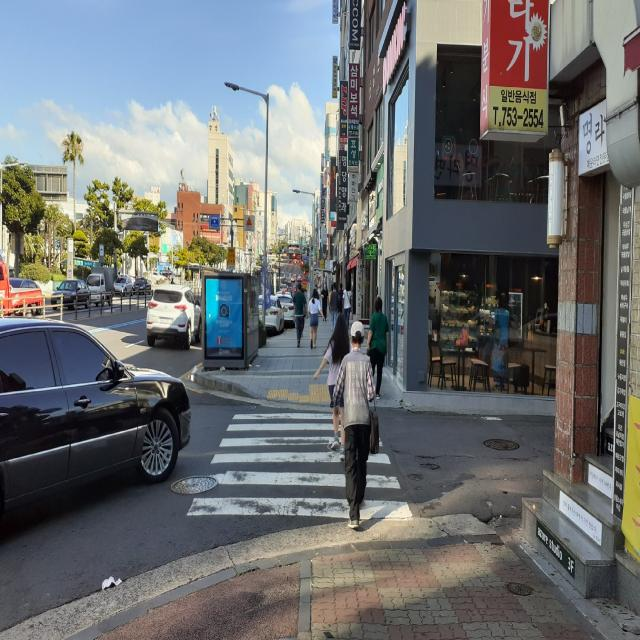횡단보도: (185, 411, 414, 522)
